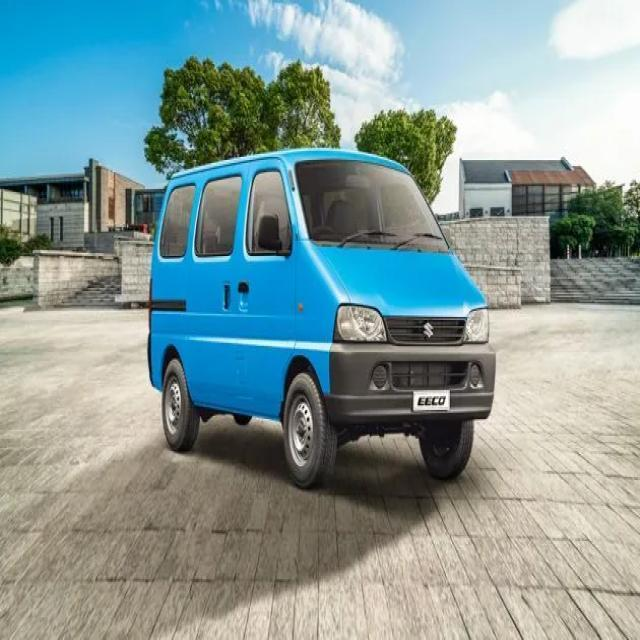Ambulance: (1, 297, 638, 637), (143, 143, 498, 492)
